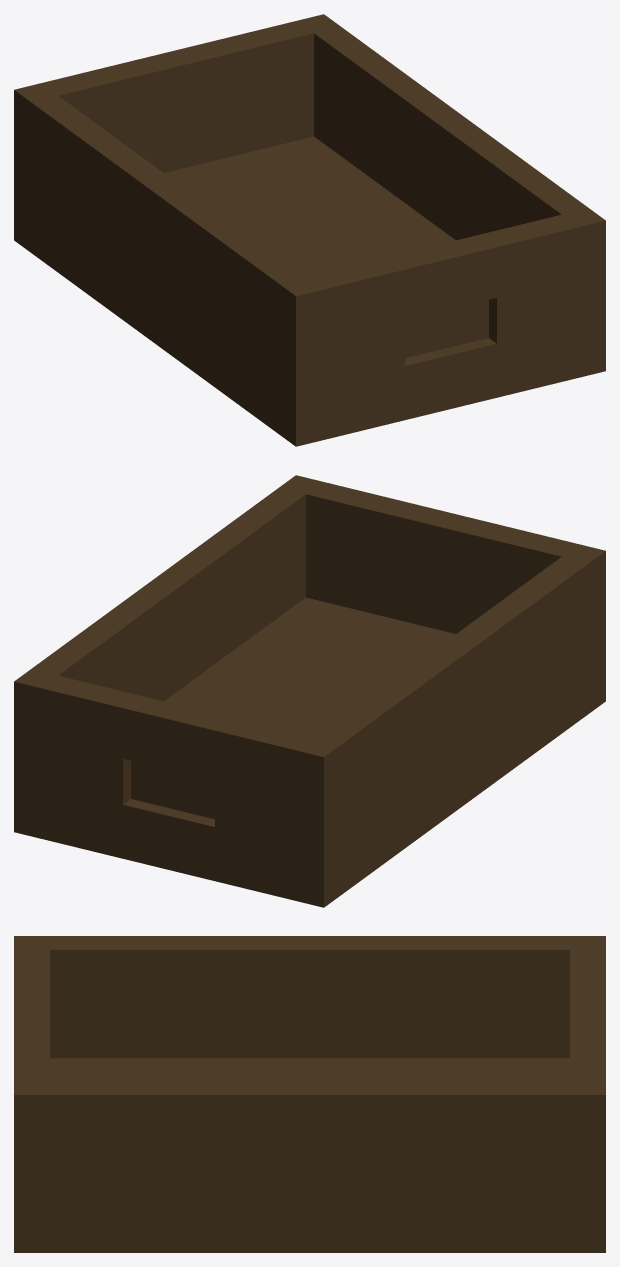
Rendered from crate_small.fbx.
3 renders of one model, top to bottom at view 1: azimuth 30°, elevation 25°; view 2: azimuth 150°, elevation 25°; view 3: azimuth 270°, elevation 25°, orthographic. The views are drawn at different scales.
Parts seen in each view (by area): view 1: Cube; view 2: Cube; view 3: Cube.
Part boxes in pixels (x1,y1,x2,y2): Cube: [14, 14, 605, 446]; Cube: [14, 475, 605, 907]; Cube: [14, 936, 605, 1252].
Size of the model in its own units: 127 by 58.93 by 200.
